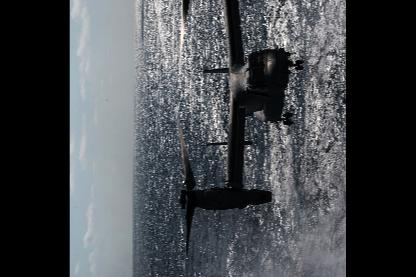Tornado: (173, 0, 304, 276)
